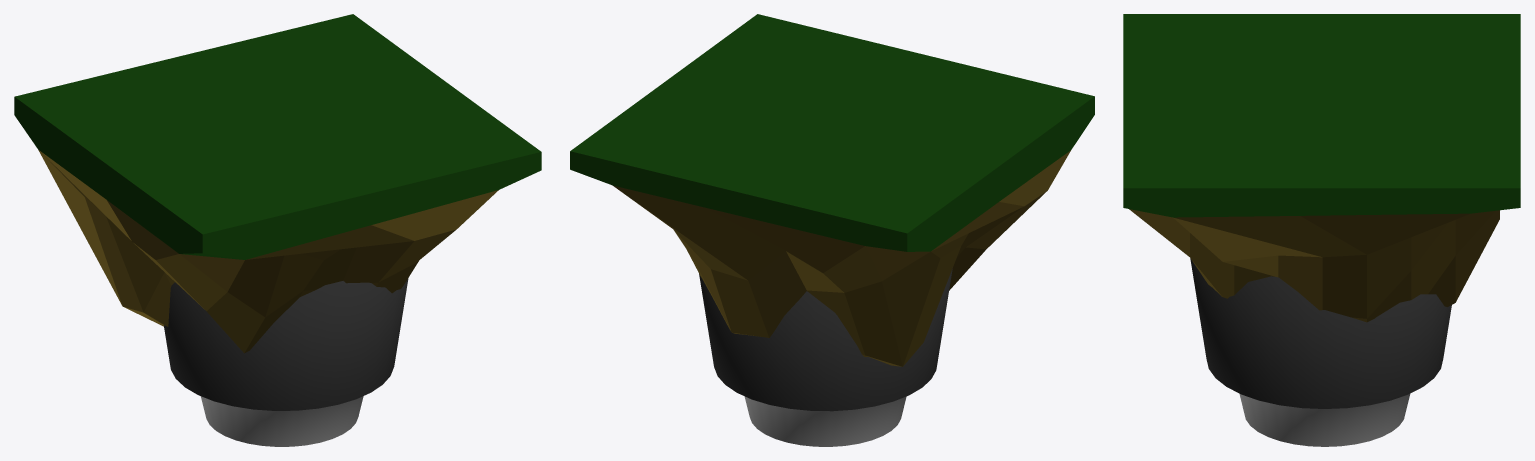
Rendered from Island6.fbx.
3 renders of one model, left to right at view 1: azimuth 30°, elevation 25°; view 2: azimuth 150°, elevation 25°; view 3: azimuth 270°, elevation 25°, orthographic. The views are drawn at different scales.
Parts seen in each view (by area): view 1: Island6; view 2: Island6; view 3: Island6.
Part boxes in pixels (box(x1,y1,x2,y2)): Island6: box(14, 14, 541, 446); Island6: box(570, 14, 1094, 446); Island6: box(1123, 14, 1520, 446).
Size of the model in its own units: 3888 by 3211 by 3743.
